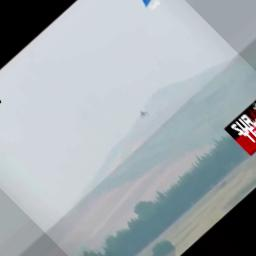Airplane: (138, 109, 150, 118)
